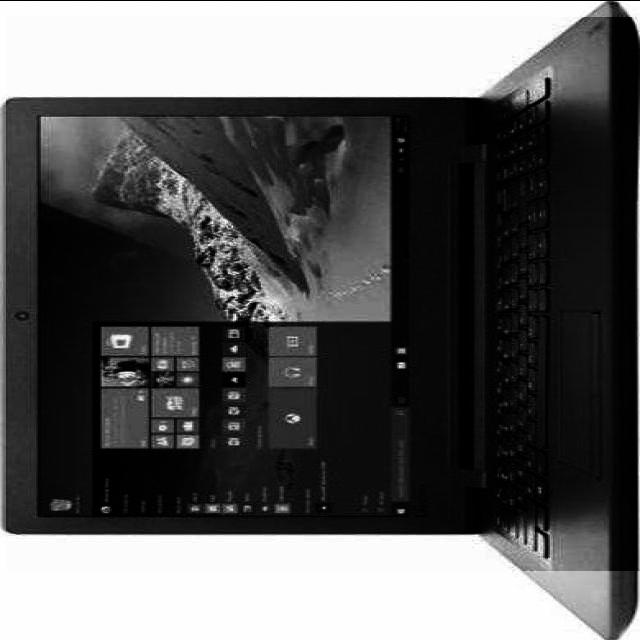-keyboard-: (6, 18, 640, 572)
